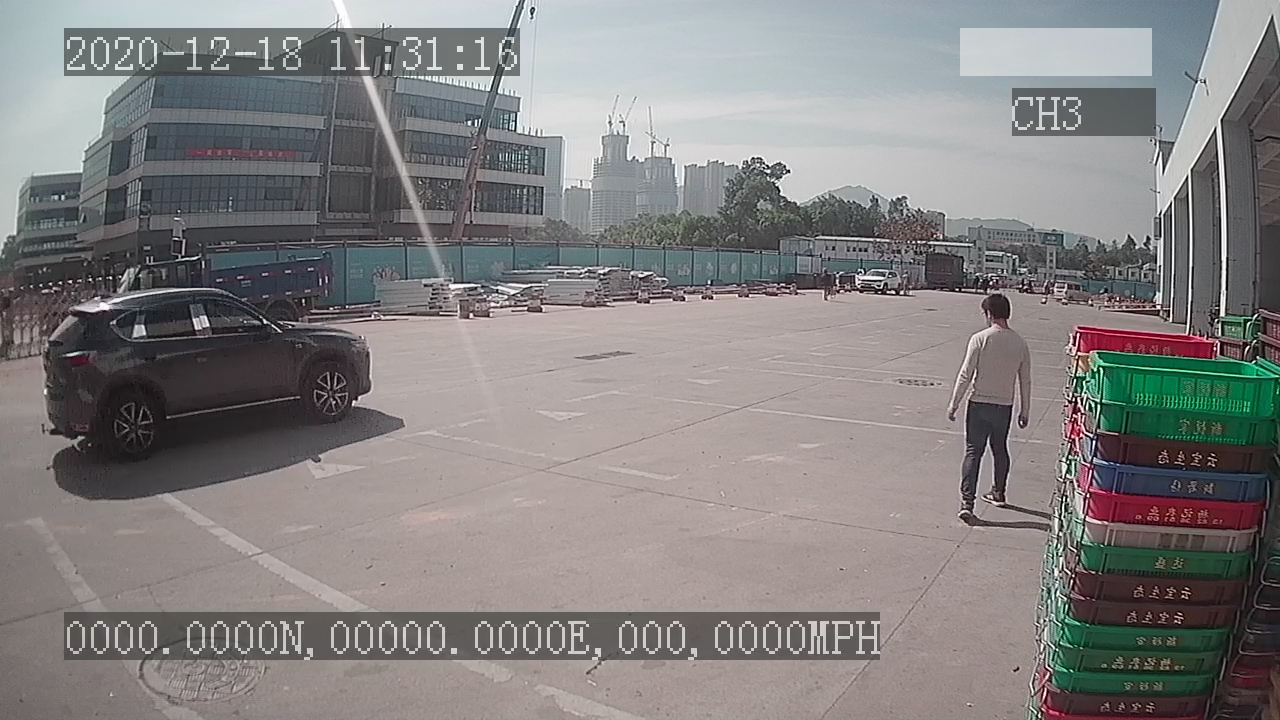person: (945, 290, 1034, 523)
